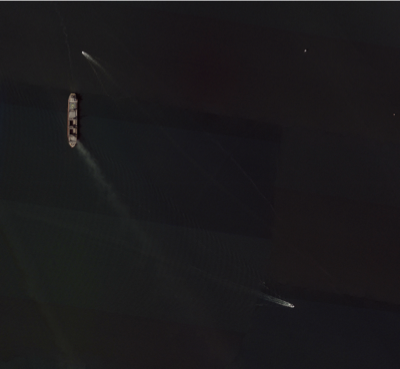boat: (65, 92, 80, 151), (286, 304, 296, 310), (81, 51, 88, 58)
